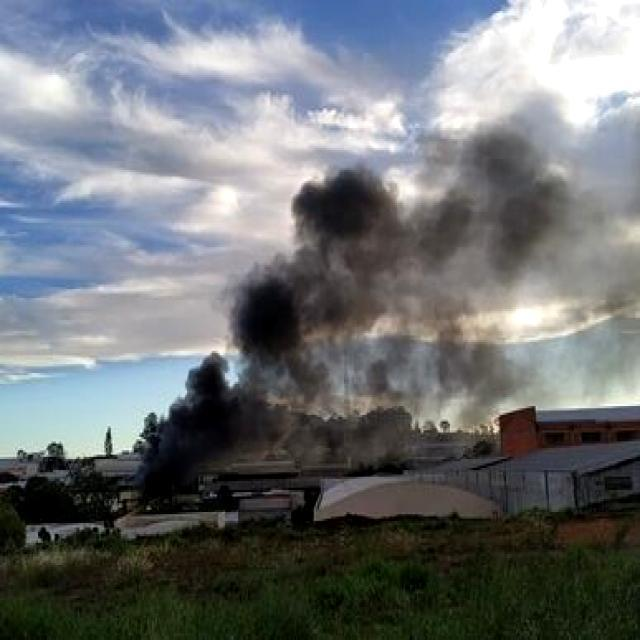Smoke: (138, 128, 580, 482)
